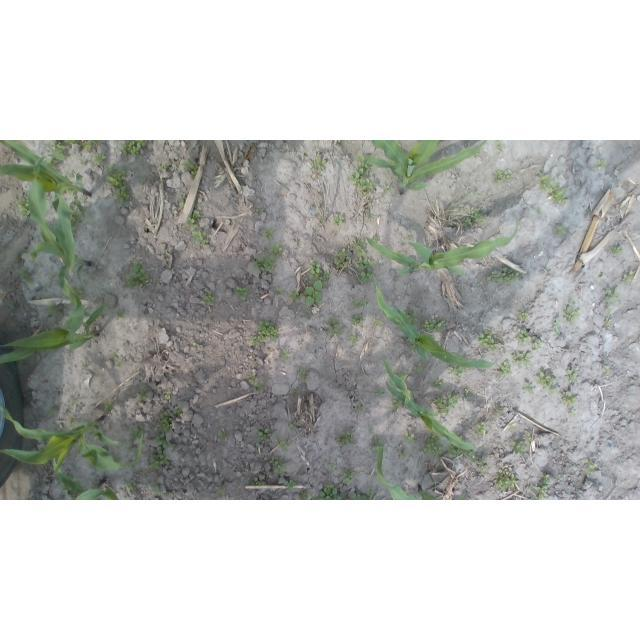Maize: (372, 275, 496, 370), (0, 399, 144, 477), (26, 152, 92, 310), (0, 278, 108, 366), (366, 216, 519, 277), (380, 358, 477, 452), (1, 140, 92, 222), (364, 141, 486, 194), (374, 445, 465, 500), (52, 457, 120, 500)
Weeds: (348, 156, 377, 195), (536, 171, 569, 205), (105, 167, 130, 206), (121, 260, 152, 291), (486, 267, 522, 285), (309, 259, 332, 286), (435, 392, 459, 417), (477, 327, 501, 351), (536, 367, 557, 394), (494, 469, 518, 492), (67, 203, 81, 242), (311, 482, 341, 500), (119, 140, 149, 157), (258, 319, 281, 341), (304, 281, 323, 307), (422, 433, 444, 455), (467, 451, 488, 474), (148, 448, 169, 469), (357, 256, 373, 283), (421, 317, 448, 333), (253, 257, 277, 274), (268, 456, 288, 476), (563, 304, 581, 325), (334, 248, 351, 270), (336, 431, 359, 447), (156, 411, 172, 433), (50, 141, 81, 152), (512, 351, 533, 367), (350, 488, 375, 501), (491, 169, 511, 185), (15, 197, 31, 217), (448, 363, 468, 379), (327, 318, 342, 339), (184, 159, 199, 179), (16, 267, 33, 284), (562, 391, 579, 408), (191, 230, 209, 246), (531, 485, 550, 500), (371, 436, 388, 452), (187, 210, 202, 228), (47, 303, 64, 318), (352, 238, 366, 256), (155, 432, 170, 448), (128, 425, 144, 440), (509, 439, 524, 455), (404, 309, 418, 326), (275, 436, 290, 451), (566, 369, 581, 384), (311, 155, 327, 169), (235, 285, 249, 301), (256, 429, 272, 443), (201, 291, 215, 306), (604, 289, 619, 303), (585, 459, 596, 478), (267, 244, 283, 257), (517, 328, 529, 345), (551, 316, 561, 336), (92, 152, 106, 166), (391, 397, 404, 412), (448, 443, 463, 456), (498, 360, 511, 375), (476, 421, 488, 436), (343, 468, 354, 484), (622, 270, 635, 283), (404, 432, 417, 445), (473, 209, 485, 223), (263, 227, 275, 241), (84, 140, 98, 152), (288, 288, 298, 304), (333, 214, 345, 227), (134, 391, 146, 404), (554, 224, 567, 236), (593, 160, 607, 171), (74, 285, 85, 299), (112, 351, 121, 367), (351, 315, 364, 326), (348, 332, 359, 345), (523, 381, 534, 394), (284, 479, 296, 490), (115, 308, 126, 320), (519, 308, 529, 321), (399, 371, 410, 382), (532, 339, 543, 350), (252, 477, 264, 487), (611, 245, 623, 255), (47, 157, 59, 167), (249, 336, 260, 346), (215, 487, 225, 498), (375, 387, 386, 397), (495, 141, 505, 152), (219, 430, 230, 440), (151, 485, 161, 496), (354, 300, 366, 309), (463, 217, 473, 227), (279, 351, 289, 361), (297, 366, 306, 377), (127, 482, 136, 493), (256, 382, 265, 392), (173, 406, 182, 416), (104, 401, 113, 411), (433, 380, 443, 389), (416, 363, 424, 374), (604, 318, 613, 327), (164, 392, 173, 401), (471, 149, 481, 157), (542, 473, 550, 483), (376, 319, 385, 327), (248, 375, 256, 384), (603, 365, 611, 374), (161, 163, 170, 171), (68, 416, 74, 428), (399, 452, 409, 459), (179, 197, 185, 208), (356, 404, 364, 412), (326, 463, 334, 471), (384, 185, 392, 192), (569, 410, 576, 418), (66, 189, 74, 196), (290, 424, 298, 431), (527, 432, 532, 443), (10, 299, 16, 308), (49, 407, 56, 414), (81, 159, 88, 166), (372, 235, 378, 243), (304, 310, 312, 316), (509, 425, 518, 430), (256, 208, 263, 214), (276, 286, 281, 294), (66, 171, 72, 177), (465, 388, 470, 395), (192, 342, 199, 346), (536, 208, 541, 212), (16, 256, 20, 260), (448, 223, 453, 226)
